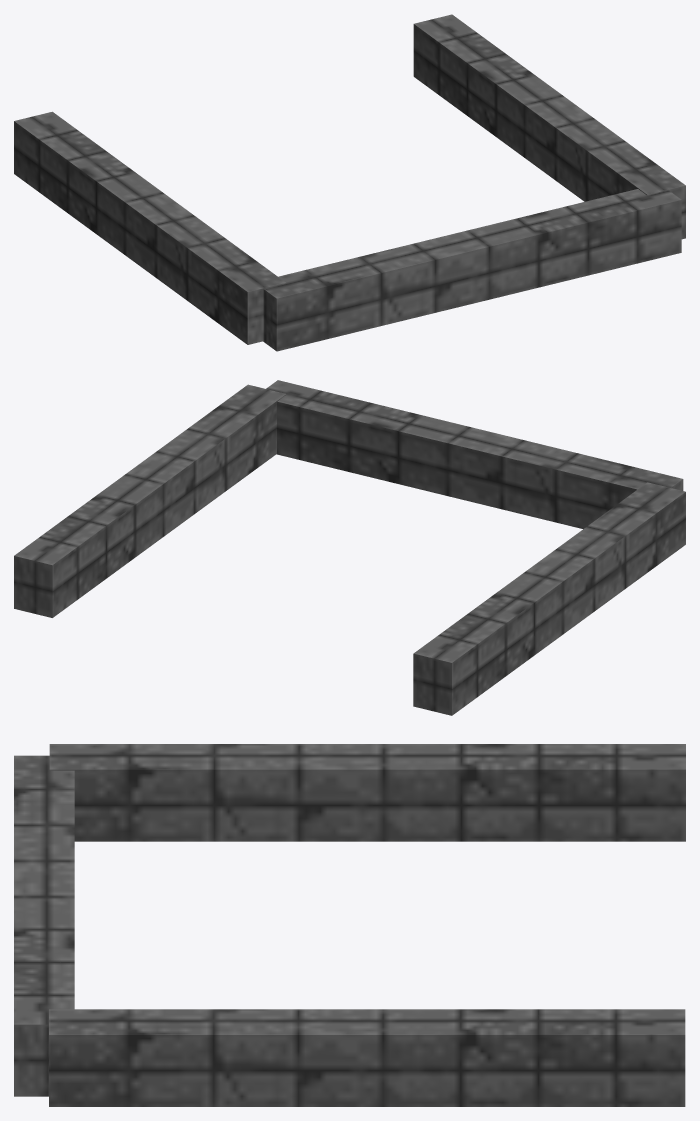
File: brick.fbx
The picture shows the model from 3 angles, top to bottom: view 1: azimuth 30°, elevation 25°; view 2: azimuth 150°, elevation 25°; view 3: azimuth 270°, elevation 25°; orthographic projection. The views are drawn at different scales.
Visible parts, largest first — view 1: pCube63, pCube67, pCube68; view 2: pCube63, pCube67, pCube68; view 3: pCube68, pCube67, pCube63.
Part boxes in pixels (x1,y1,x2,y2): pCube63: (263, 189, 681, 351); pCube67: (14, 111, 286, 344); pCube68: (413, 14, 685, 239); pCube63: (266, 380, 683, 528); pCube67: (413, 482, 685, 715); pCube68: (14, 384, 286, 617); pCube68: (49, 1009, 685, 1106); pCube67: (49, 744, 685, 841); pCube63: (14, 755, 74, 1096).
Bounding box in the file's own units: 1283 × 150 × 1253.
